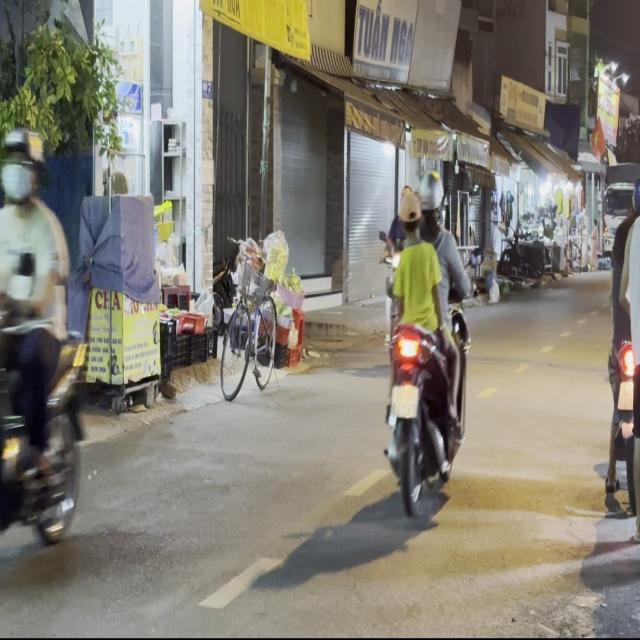helmet: (0, 126, 40, 206), (416, 169, 443, 223), (631, 173, 640, 220)
licenseplate: (0, 124, 93, 597), (378, 167, 472, 518), (596, 124, 639, 574)
motorcyclist: (396, 185, 421, 236)
nohelmet: (391, 384, 418, 417)
